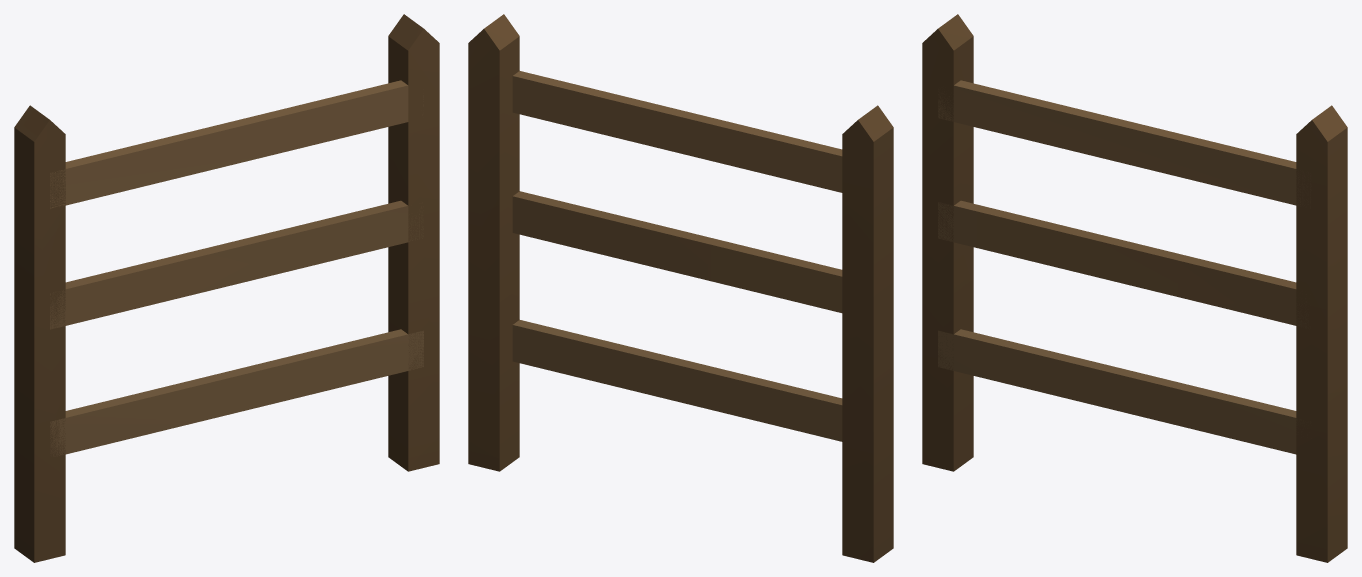
Rendered from fence.rail.rail.glb.
3 views of the same model, side by side, from view 1: azimuth 30°, elevation 25°; view 2: azimuth 150°, elevation 25°; view 3: azimuth 330°, elevation 25° (orthographic).
Visible parts, largest first — view 1: fence_rail_rail; view 2: fence_rail_rail; view 3: fence_rail_rail.
Part boxes in pixels (x1,y1,x2,y2): fence_rail_rail: (14, 14, 439, 562); fence_rail_rail: (468, 14, 893, 562); fence_rail_rail: (922, 14, 1347, 562).
Size of what is drawn, in the model's own units: 1.16 by 1.2 by 0.099.
